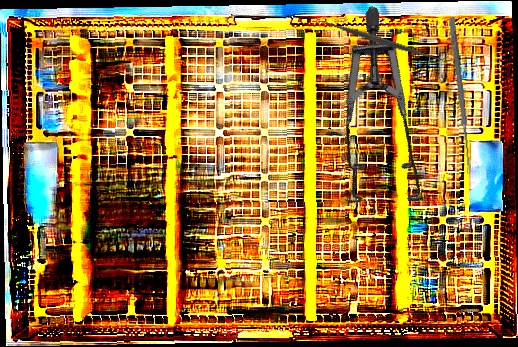Spatula Surgical: (313, 11, 451, 70)
Speculum: (281, 5, 494, 233)
Surgical Spoon: (447, 17, 474, 174)
